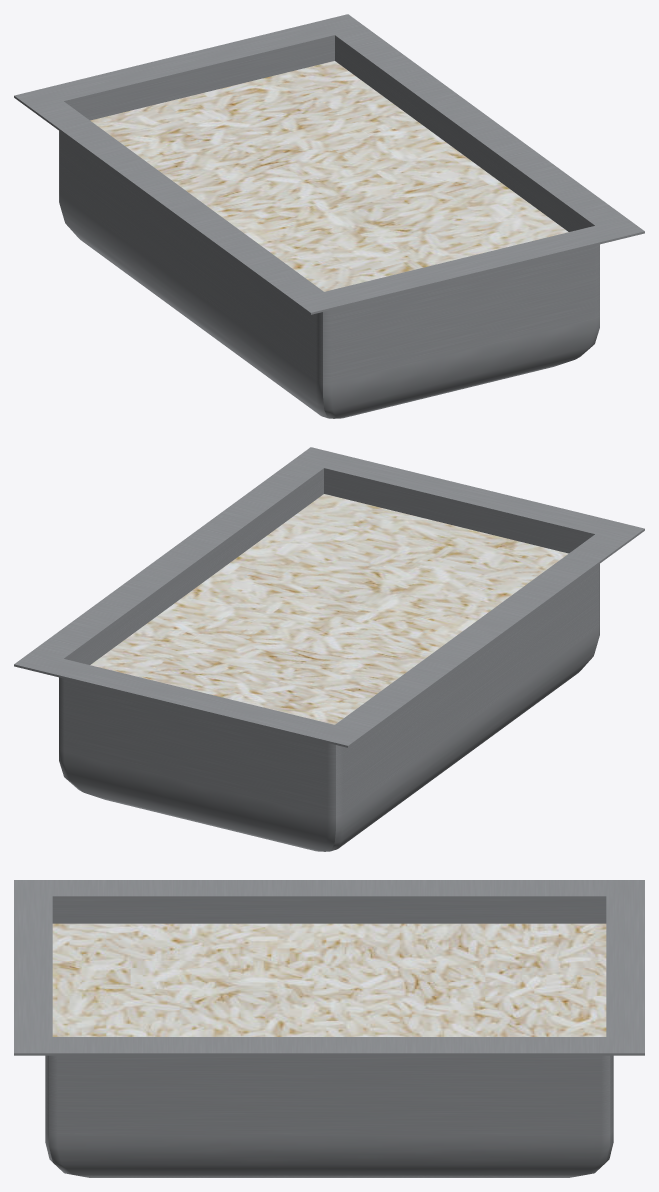
File: TRAY.fbx
3 views of the same model, one above another, from view 1: azimuth 30°, elevation 25°; view 2: azimuth 150°, elevation 25°; view 3: azimuth 270°, elevation 25° (orthographic). The views are drawn at different scales.
Parts seen in each view (by area): view 1: pCube2; view 2: pCube2; view 3: pCube2.
Part boxes in pixels (x1,y1,x2,y2): pCube2: (14, 14, 644, 418); pCube2: (14, 447, 644, 851); pCube2: (14, 880, 644, 1177).
Size of the model in its own units: 1.03 by 0.429 by 1.58.
